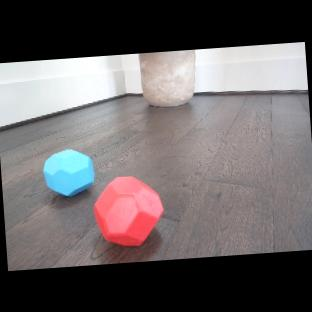V5_BLUE: (41, 146, 96, 199)
V5_RED: (91, 173, 167, 249)
